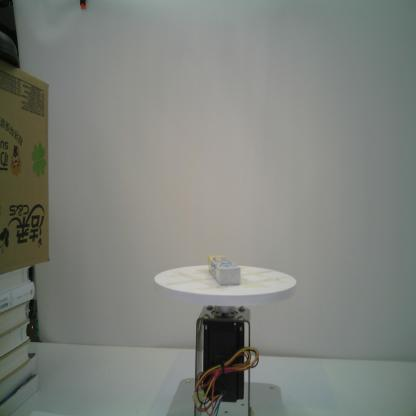Candy: (207, 254, 242, 286)
